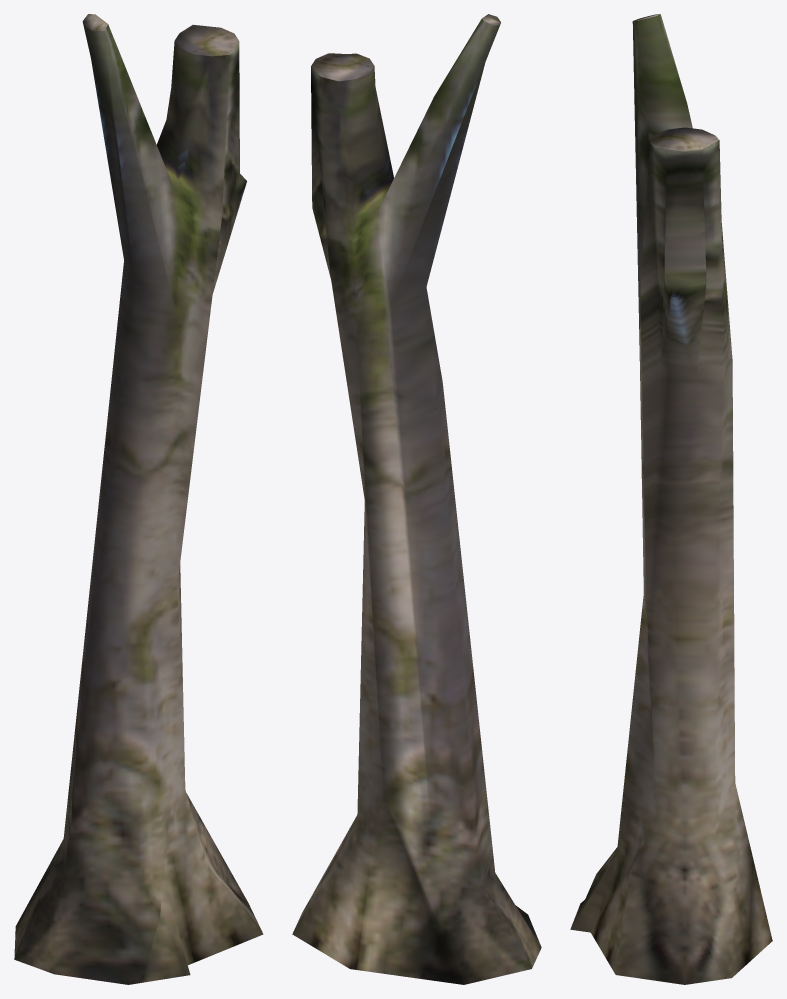
The picture shows the model from 3 angles, left to right: view 1: azimuth 30°, elevation 25°; view 2: azimuth 150°, elevation 25°; view 3: azimuth 270°, elevation 25°; orthographic projection. The views are drawn at different scales.
Visible parts, largest first — view 1: U3DMesh; view 2: U3DMesh; view 3: U3DMesh.
Part boxes in pixels (x1,y1,x2,y2): U3DMesh: (14,14,263,984); U3DMesh: (292,14,541,984); U3DMesh: (570,14,772,984).
Bounding box in the file's own units: 95.99 × 369 × 75.92.
1 material, 1 textured.
